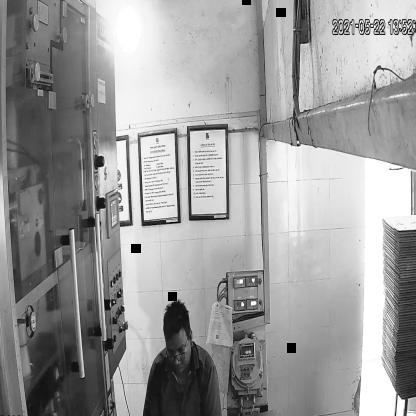goggles: (165, 343, 188, 366)
